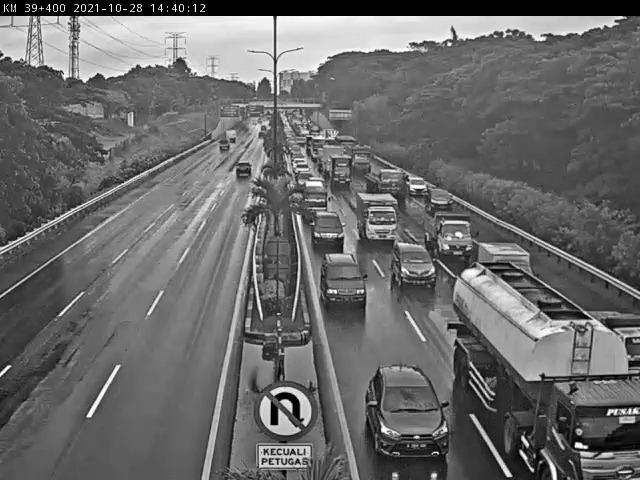big truck: (450, 265, 640, 479)
car: (362, 358, 455, 463), (317, 248, 375, 307), (387, 237, 440, 291), (309, 208, 346, 246), (424, 182, 452, 212), (404, 172, 429, 197), (234, 160, 252, 176), (296, 168, 314, 182)
mid truck: (581, 306, 640, 372), (419, 209, 477, 260), (351, 188, 402, 242), (358, 161, 403, 195)
small bus: (302, 176, 329, 210)
small truck: (474, 236, 533, 277)
